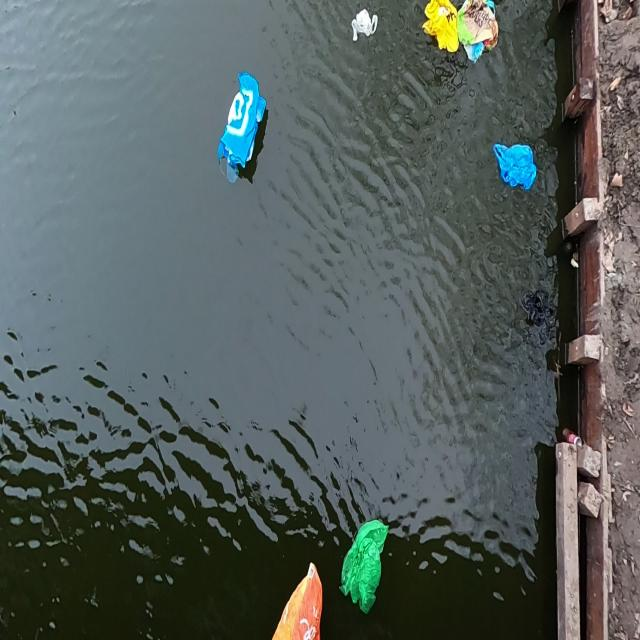Sac plastique: (213, 62, 271, 188), (336, 513, 392, 618), (268, 550, 324, 640), (489, 132, 540, 200), (457, 0, 502, 69), (418, 0, 459, 59), (351, 8, 381, 47)
